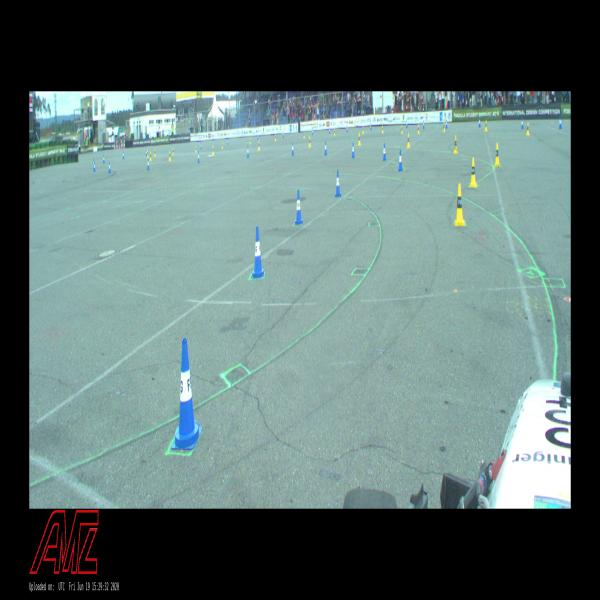blue_cone: (171, 338, 203, 450), (252, 227, 264, 278), (294, 190, 303, 224), (334, 170, 341, 196), (398, 150, 403, 170), (351, 142, 355, 157), (383, 144, 386, 160), (558, 116, 562, 128), (324, 141, 327, 154), (520, 119, 524, 128), (108, 162, 111, 173), (197, 152, 200, 162), (247, 146, 249, 158), (445, 120, 448, 128), (478, 119, 481, 127), (292, 143, 294, 154), (147, 158, 149, 169), (94, 162, 96, 172), (103, 155, 105, 163), (406, 120, 408, 128), (200, 143, 202, 149), (346, 126, 348, 132), (370, 124, 372, 130), (257, 134, 259, 140), (93, 159, 94, 168), (423, 120, 424, 128), (312, 127, 313, 135), (123, 152, 124, 159), (146, 149, 147, 156), (283, 131, 284, 138), (329, 128, 330, 134), (228, 140, 228, 144)
yellow_cone: (455, 184, 465, 225), (469, 158, 477, 187), (494, 143, 501, 166), (453, 136, 458, 153), (407, 133, 410, 147), (358, 133, 361, 145), (526, 123, 529, 134), (381, 125, 384, 133), (309, 136, 311, 147), (212, 145, 214, 156), (485, 121, 487, 131), (258, 140, 260, 150), (169, 150, 171, 160), (443, 122, 445, 132), (418, 125, 420, 134), (401, 125, 403, 134), (150, 152, 152, 160), (362, 126, 364, 134), (154, 148, 156, 156), (147, 150, 149, 158), (303, 131, 305, 138), (195, 146, 197, 152), (172, 148, 174, 154), (222, 142, 223, 150), (334, 128, 335, 136), (275, 134, 276, 141), (250, 138, 251, 144)
